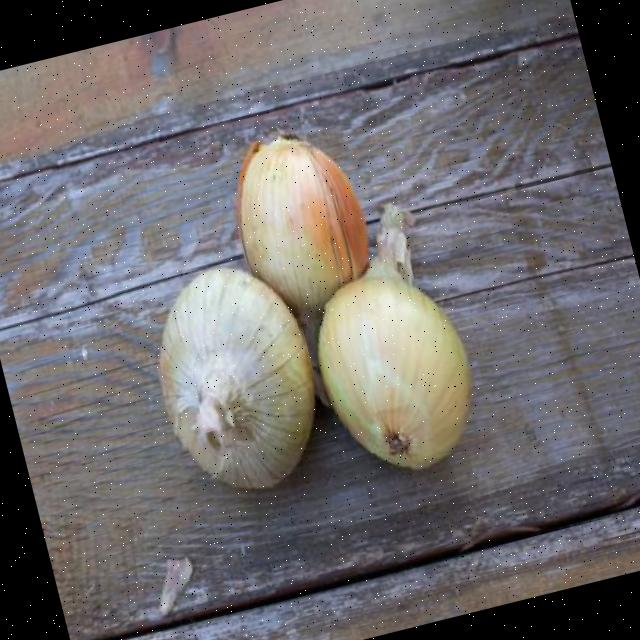Onion: (319, 204, 473, 471), (159, 268, 315, 490), (237, 136, 369, 316)
